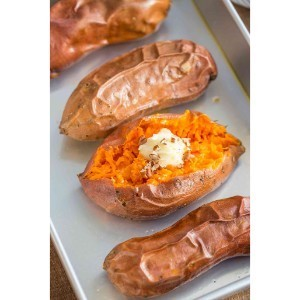sweet potato_brain food: (63, 120, 231, 194), (110, 210, 221, 292), (92, 42, 210, 113)
